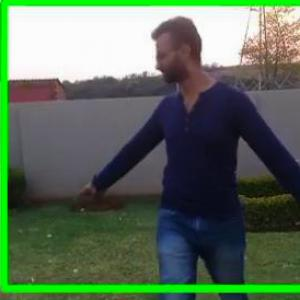land: (64, 9, 299, 299)
